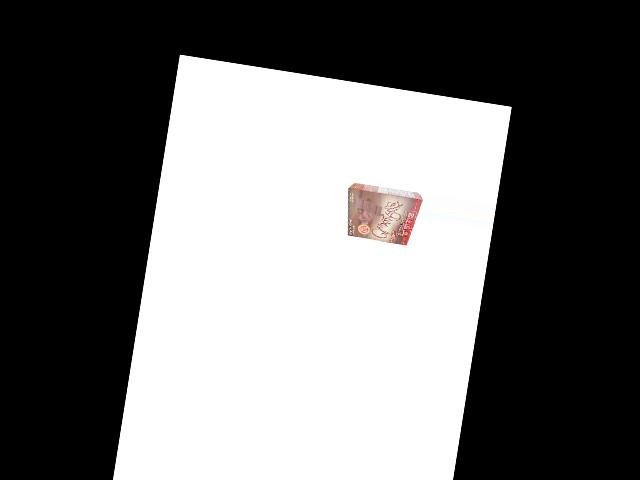chocolate: (340, 182, 421, 248)
